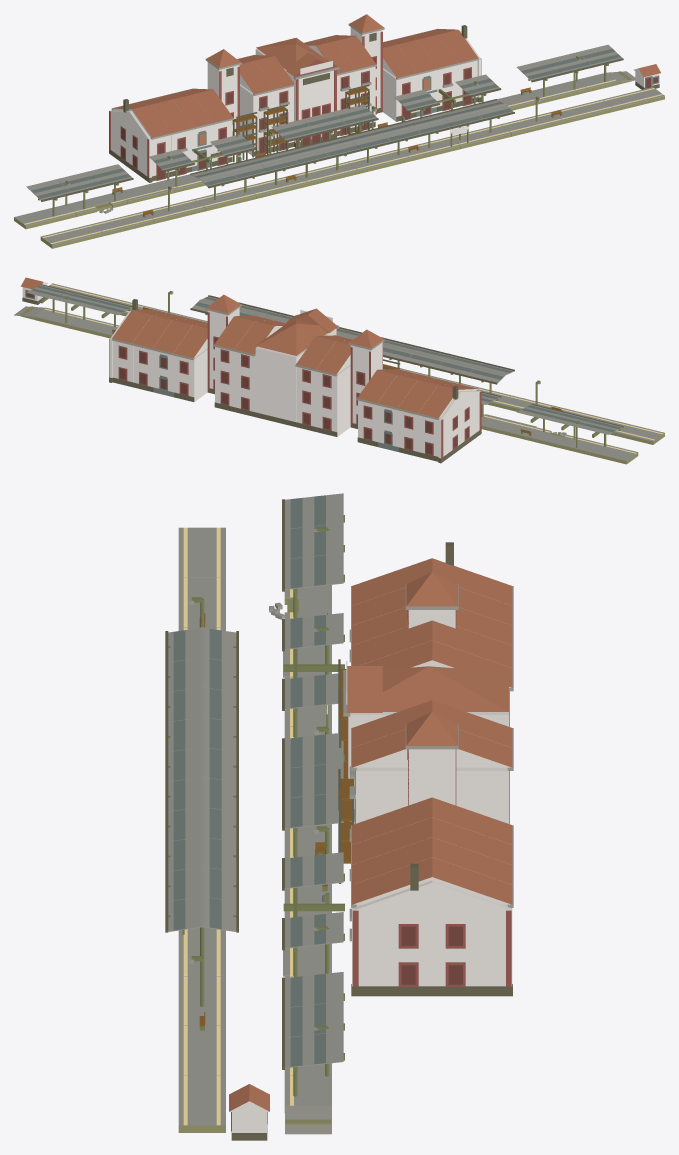
The model's file is SM_EstacionCastellon_v3_LOD1.fbx.
The picture shows the model from 3 angles, top to bottom: view 1: azimuth 30°, elevation 25°; view 2: azimuth 150°, elevation 25°; view 3: azimuth 270°, elevation 25°; orthographic projection. The views are drawn at different scales.
Visible parts, largest first — view 1: SM_bloques.estacion_castellon_v3_LOD1; view 2: SM_bloques.estacion_castellon_v3_LOD1; view 3: SM_bloques.estacion_castellon_v3_LOD1.
Part boxes in pixels (box(x1,y1,x2,y2)): SM_bloques.estacion_castellon_v3_LOD1: box(14, 14, 664, 248); SM_bloques.estacion_castellon_v3_LOD1: box(14, 277, 664, 464); SM_bloques.estacion_castellon_v3_LOD1: box(165, 493, 513, 1140).
Size of the model in its own units: 122 by 18.15 by 29.52.
